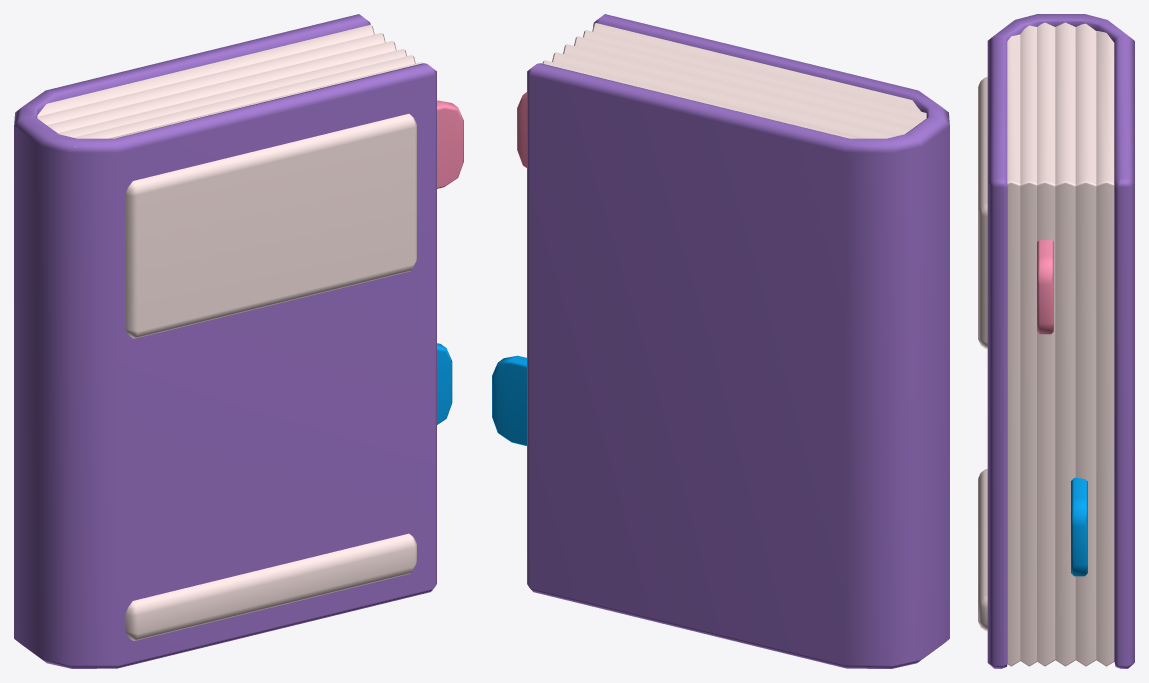
File: Public_8_Book_5.glb
The picture shows the model from 3 angles, left to right: view 1: azimuth 30°, elevation 25°; view 2: azimuth 150°, elevation 25°; view 3: azimuth 270°, elevation 25°; orthographic projection. The views are drawn at different scales.
Parts seen in each view (by area): view 1: Public_8_Book_5; view 2: Public_8_Book_5; view 3: Public_8_Book_5.
Boxes of the visible parts, bbox=[...] form: Public_8_Book_5: bbox=[14, 14, 463, 668]; Public_8_Book_5: bbox=[492, 14, 949, 668]; Public_8_Book_5: bbox=[978, 14, 1134, 668].
Bounding box in the file's own units: 1.19 × 1.39 × 0.4015.
1 material, 1 textured.
